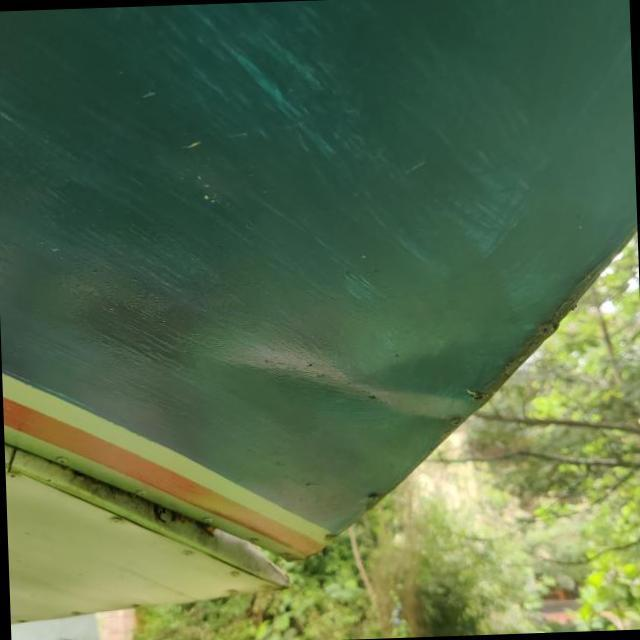Dent: (198, 288, 507, 484)
